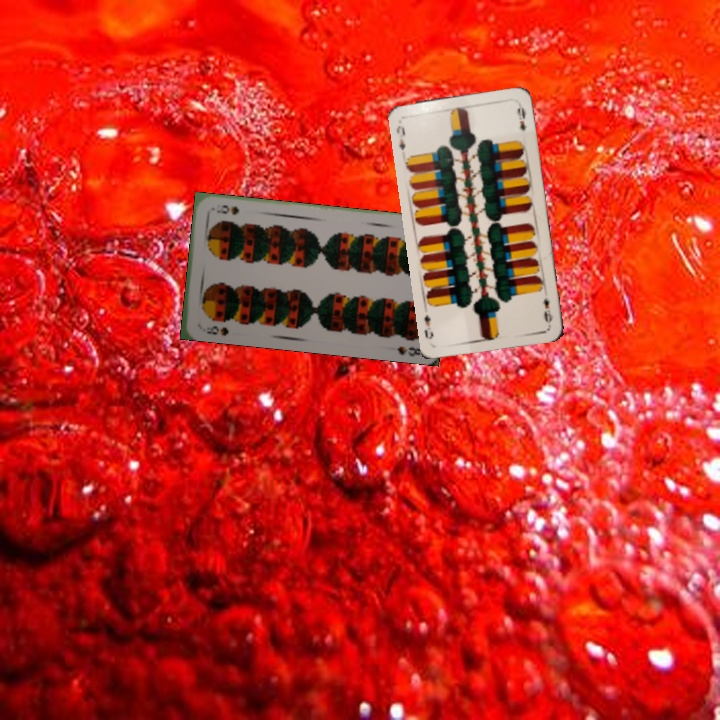E9: (539, 295, 555, 328), (392, 121, 408, 153)
S8: (202, 322, 231, 338)
